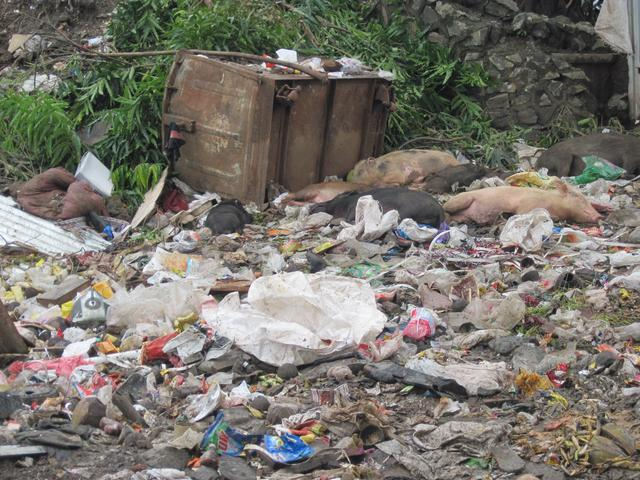garbage: (27, 219, 621, 473)
